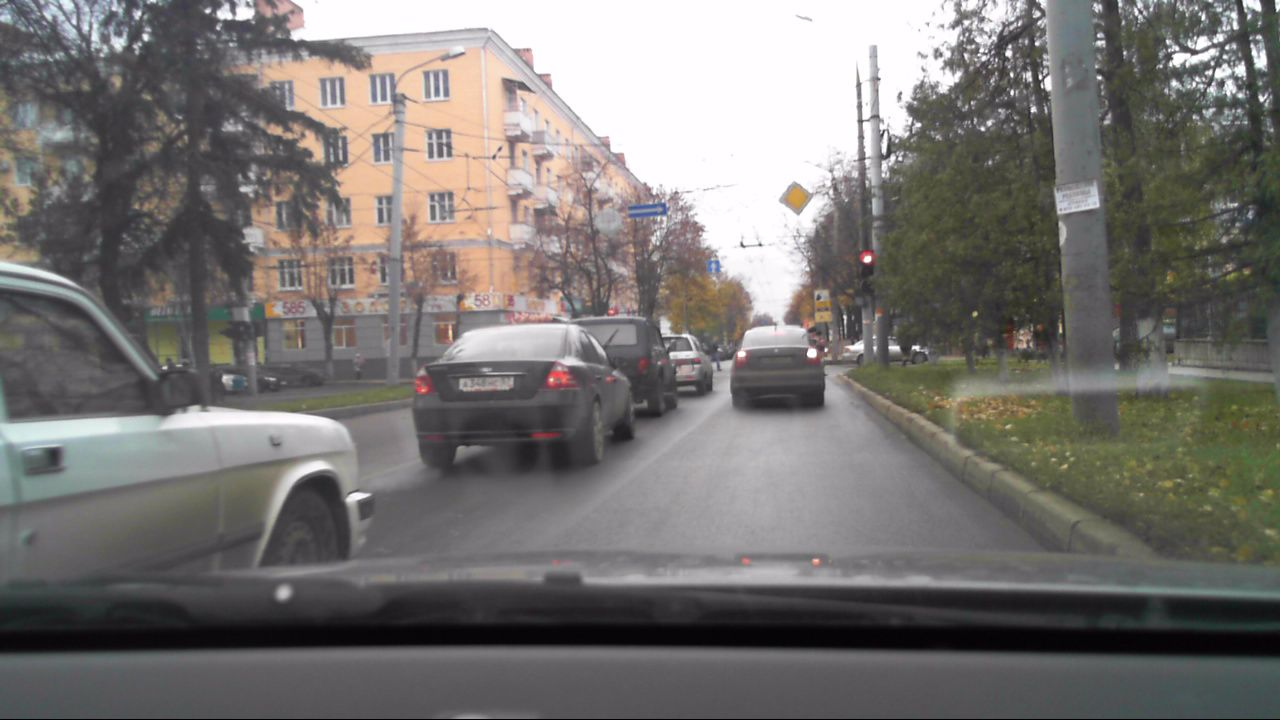One-Way Traffic: (627, 204, 667, 217)
